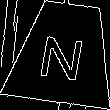N_N: (37, 25, 91, 81)
